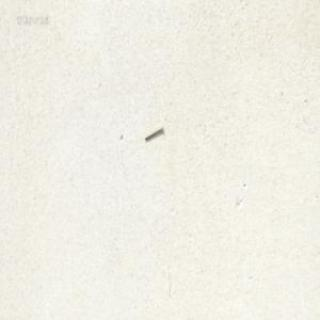Bolttrack_idkeyframe: (143, 124, 162, 140)
